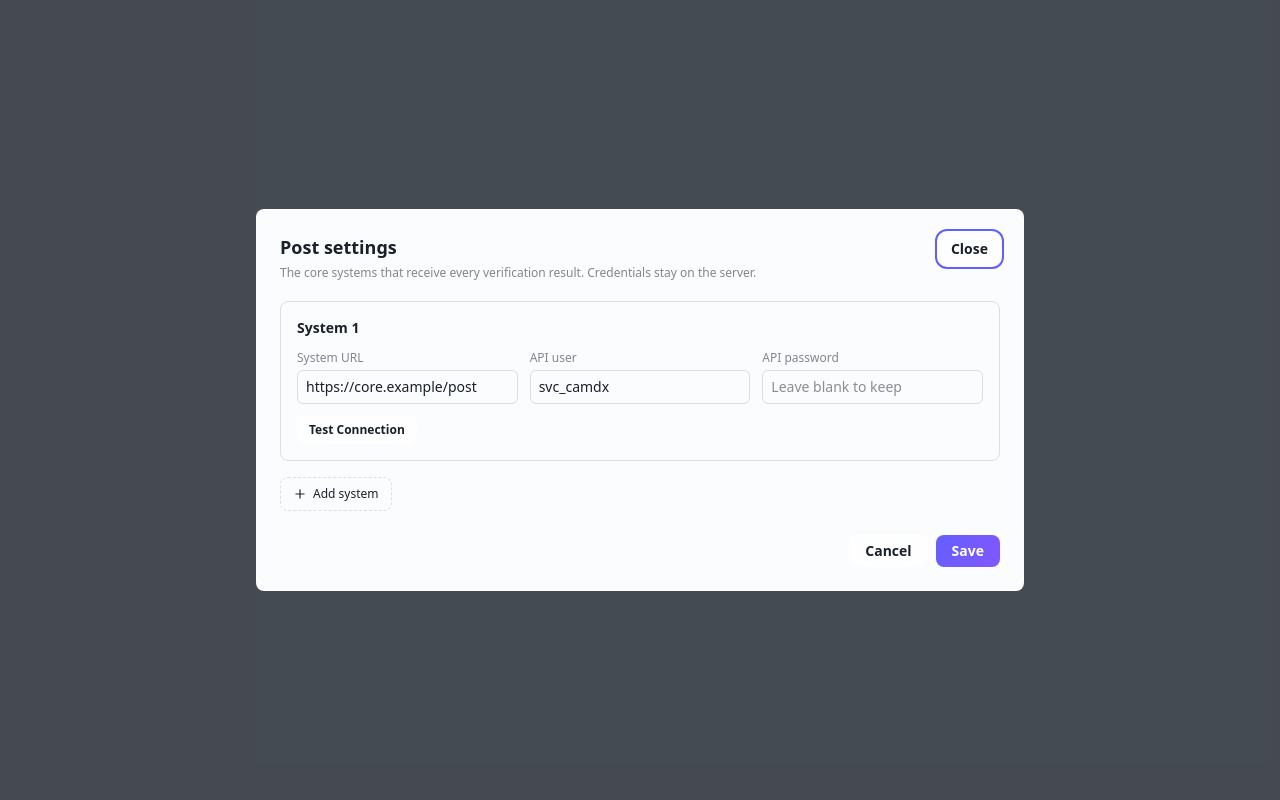
Test case: test connection (D22) › drops a stale result the moment the row is edited
The width and height of the screenshot is (1280, 800).
Expected: the field showing "https://core.example/post" is shown, top-left (297, 370), bottom-right (518, 404)
Click the button "Test Connection".
click(357, 430)  # box top-left (297, 416), bottom-right (417, 444)
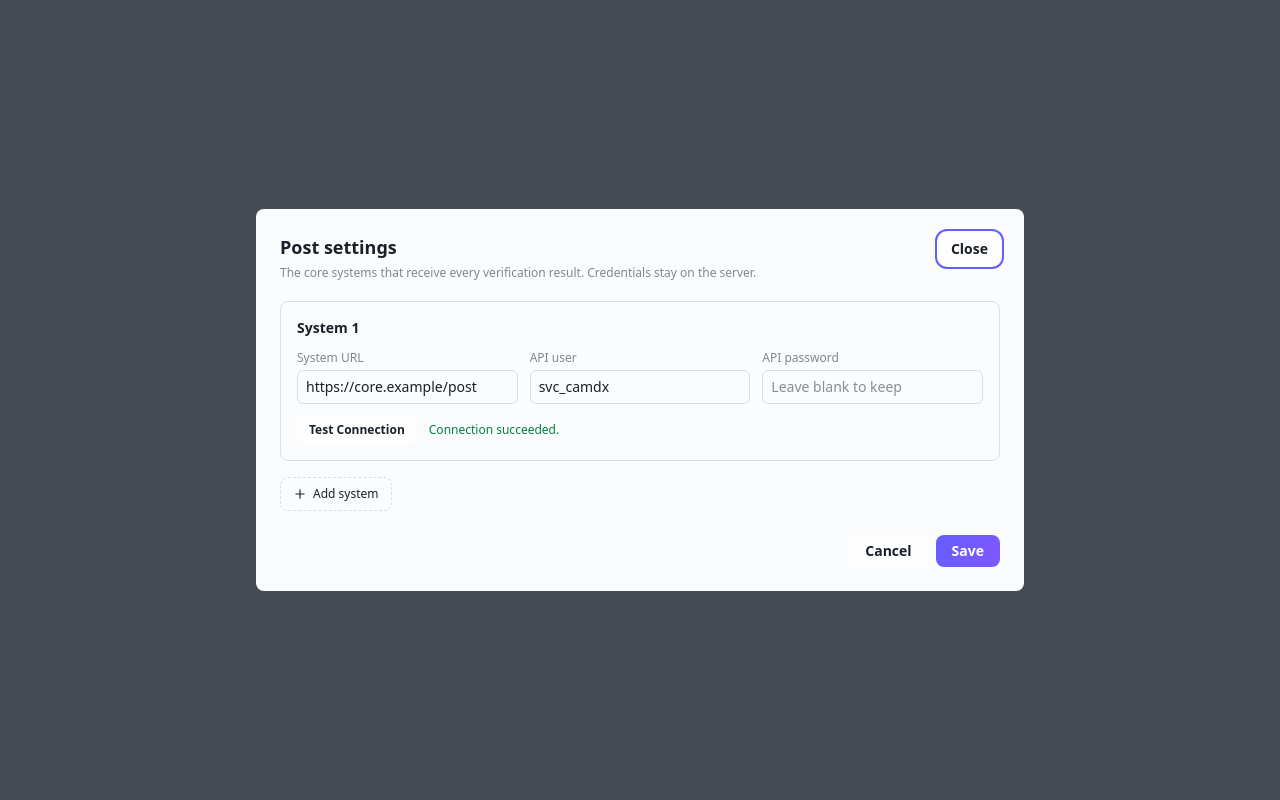
Expected: the text "Connection succeeded." is shown, top-left (429, 422), bottom-right (559, 438)
Type "https://moved.example/post" into the field named "System 1 URL".
click(407, 387); type("https://moved.example/post")  # box top-left (297, 370), bottom-right (518, 404)
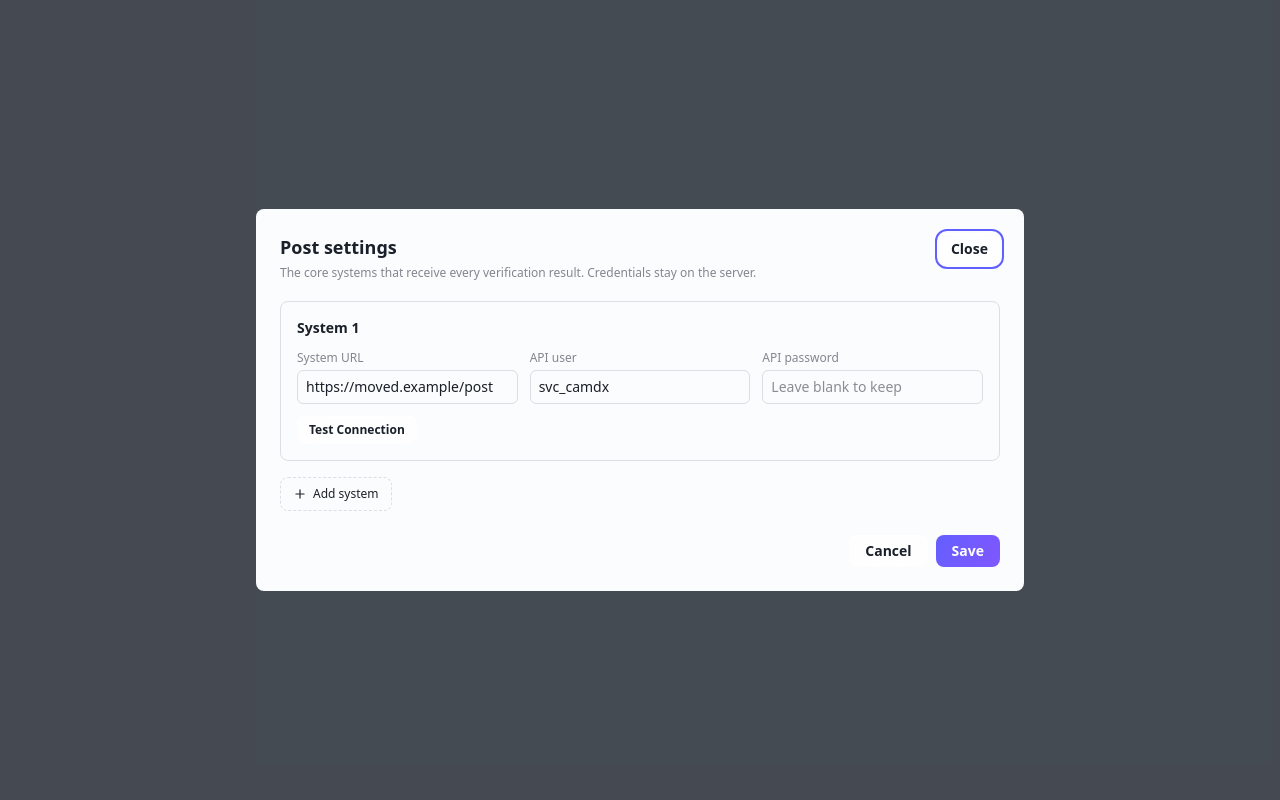
Expected: the button "Test Connection" is enabled, top-left (297, 416), bottom-right (417, 444)
Expected: the text "Connection succeeded." is gone
